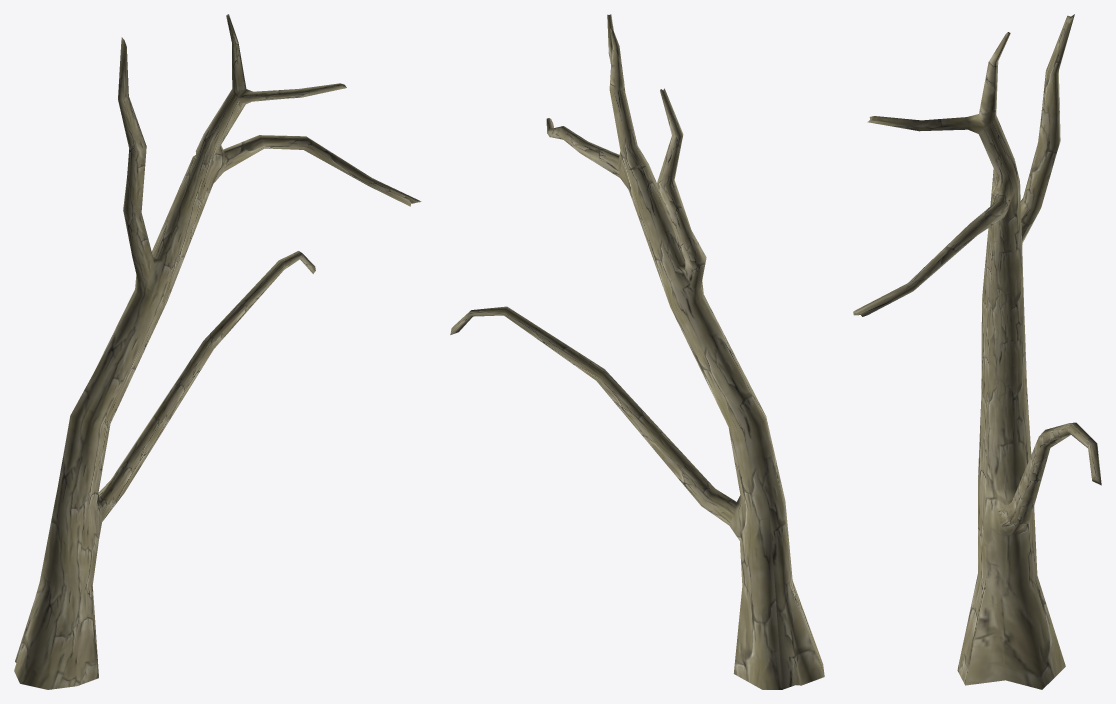
Rendered from tree_3.obj.
The picture shows the model from 3 angles, left to right: view 1: azimuth 30°, elevation 25°; view 2: azimuth 150°, elevation 25°; view 3: azimuth 270°, elevation 25°; orthographic projection. The views are drawn at different scales.
Visible parts, largest first — view 1: Trees_pack; view 2: Trees_pack; view 3: Trees_pack.
Part boxes in pixels (bbox=[...]): Trees_pack: bbox=[14, 14, 421, 689]; Trees_pack: bbox=[450, 14, 824, 689]; Trees_pack: bbox=[853, 14, 1101, 689].
Size of the model in its own units: 3.15 by 5.43 by 1.65.
